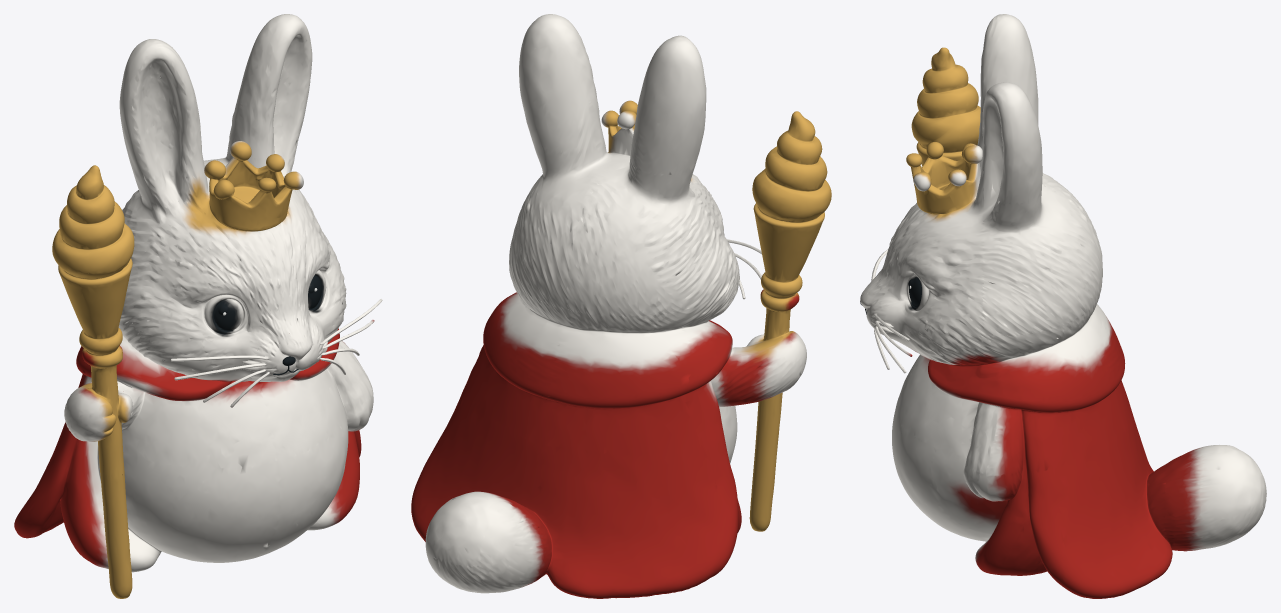
The model's file is gallery-figure.glb.
3 views of the same model, side by side, from view 1: azimuth 30°, elevation 25°; view 2: azimuth 150°, elevation 25°; view 3: azimuth 270°, elevation 25° (orthographic). The views are drawn at different scales.
Visible parts, largest first — view 1: geometry_0; view 2: geometry_0; view 3: geometry_0.
Boxes of the visible parts, x1,y1,x2,y2 form: geometry_0: (14, 14, 382, 598); geometry_0: (411, 14, 831, 598); geometry_0: (860, 14, 1266, 598).
Size of the model in its own units: 0.8009 by 1.11 by 0.8404.
